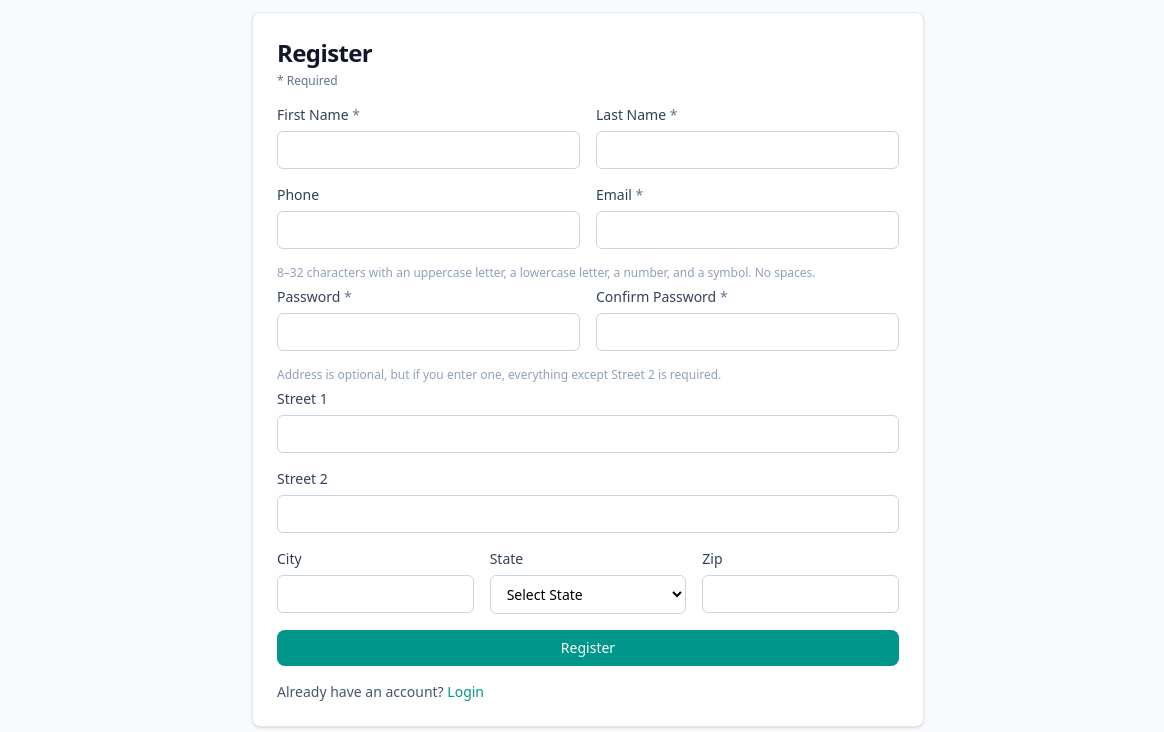
Register › forwards the pending destination through a failed login
Type "Ada" into the field labelled "First Name *" at (428,150), box [277,131,580,169]
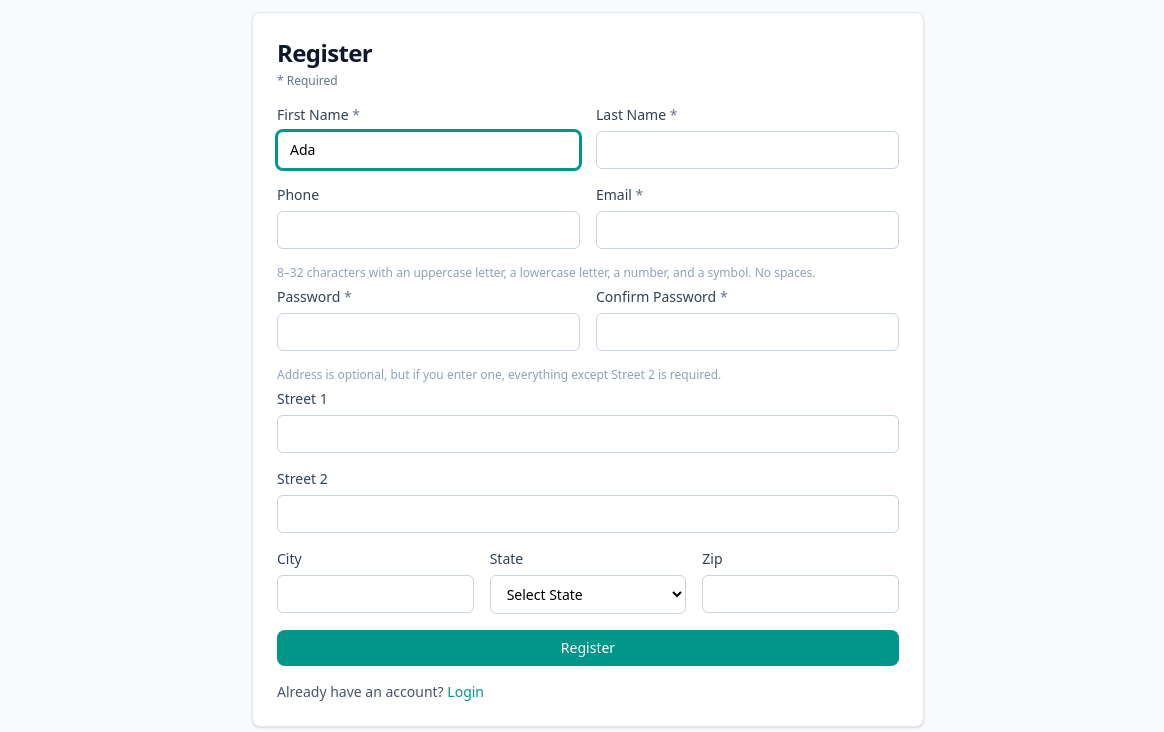
Type "Lovelace" into the field labelled "Last Name *" at (748,150), box [596,131,899,169]
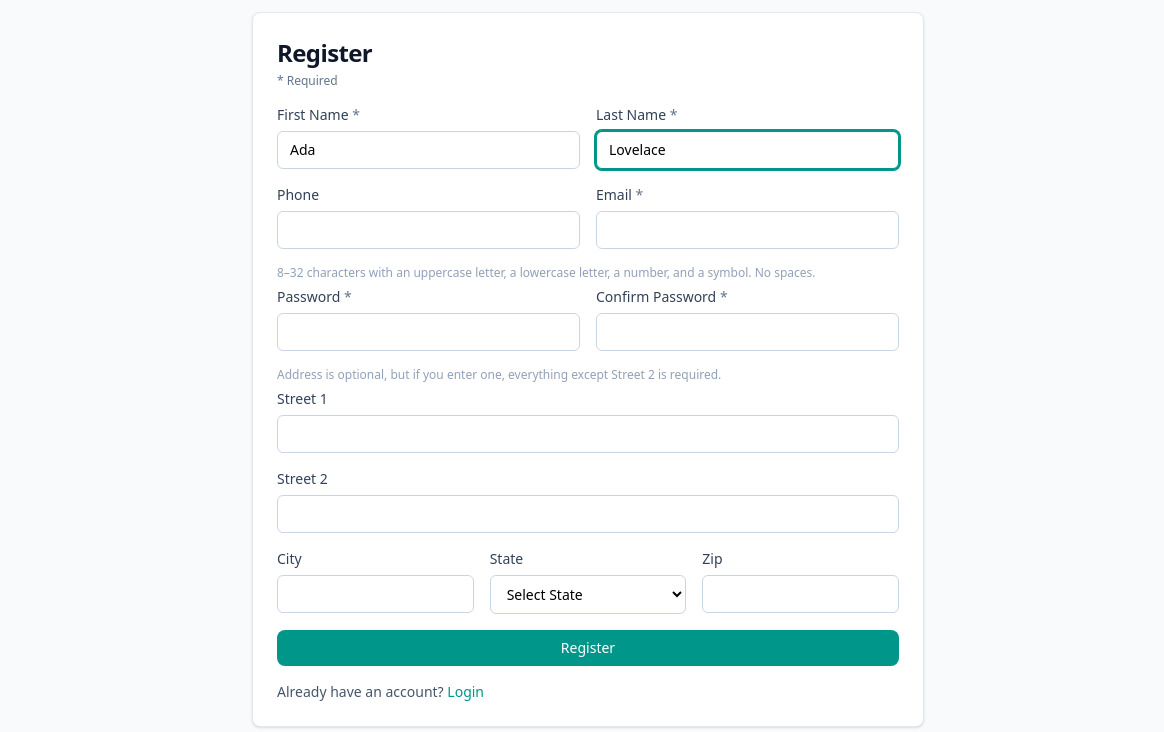
Type "ada@example.com" into the field labelled "Email *" at (748,230), box [596,211,899,249]
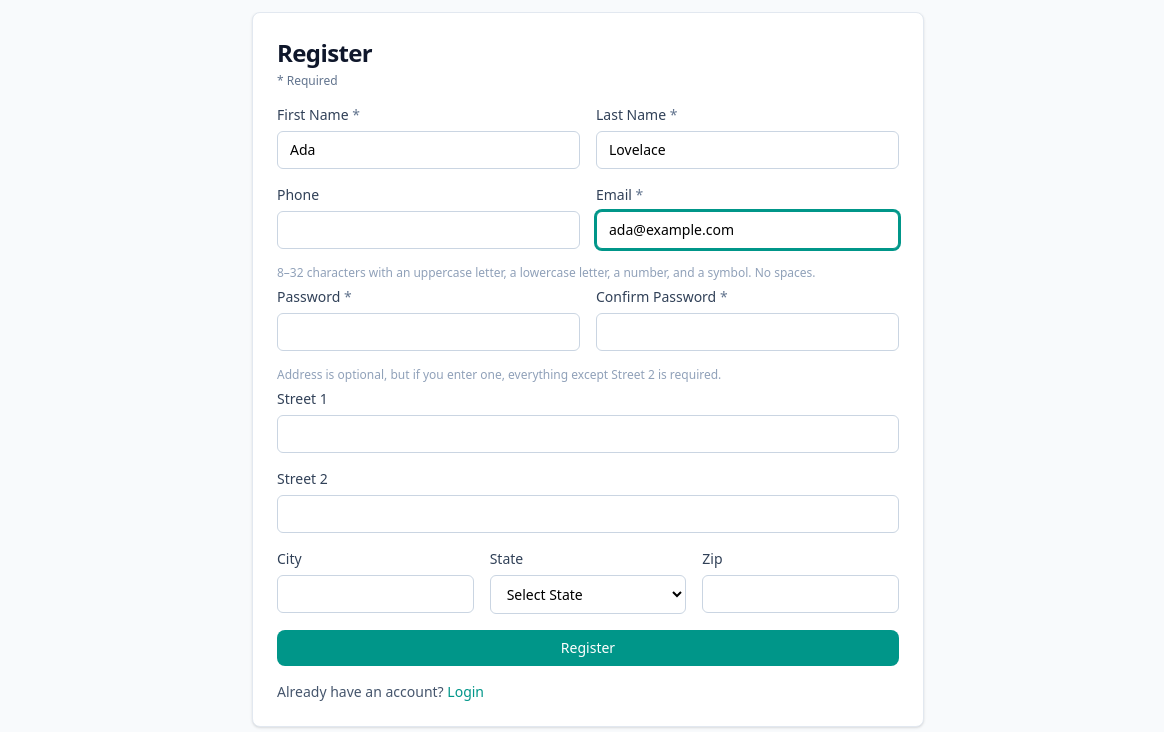
Type "Password1!" into the password field labelled "Password *" at (428,332), box [277,313,580,351]
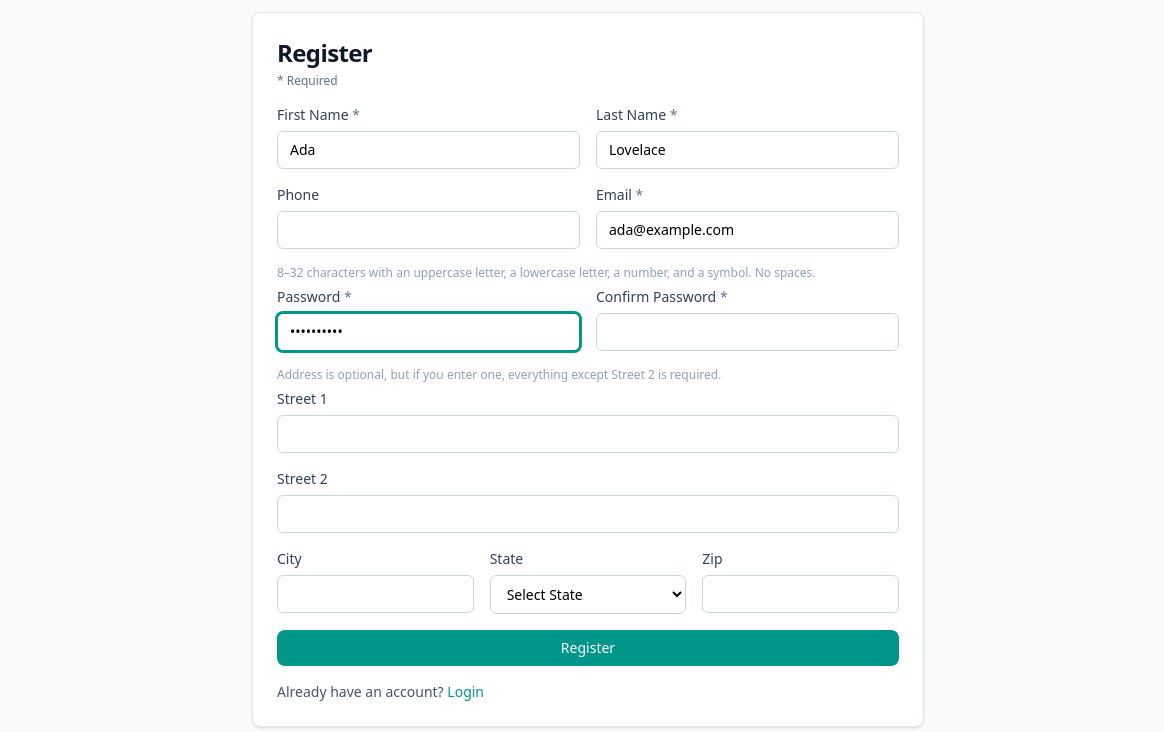
Type "Password1!" into the password field labelled "Confirm Password *" at (748,332), box [596,313,899,351]
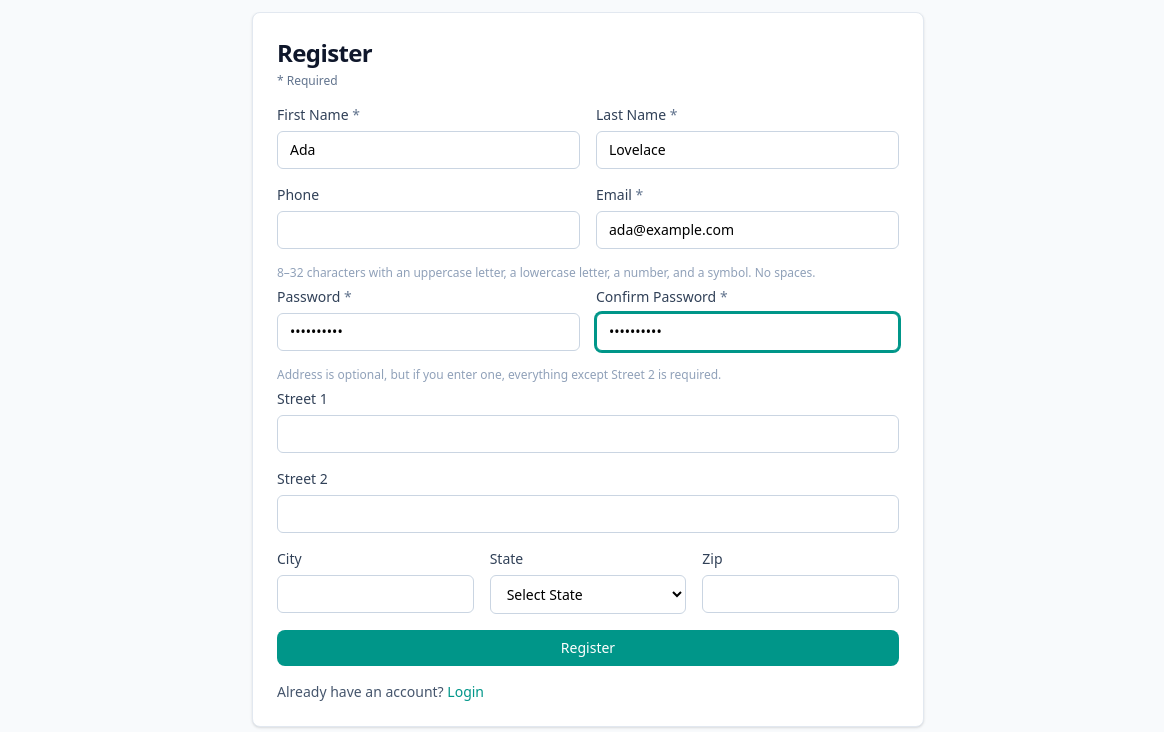
Click the button "Register" at (588,648), box [277,630,899,666]
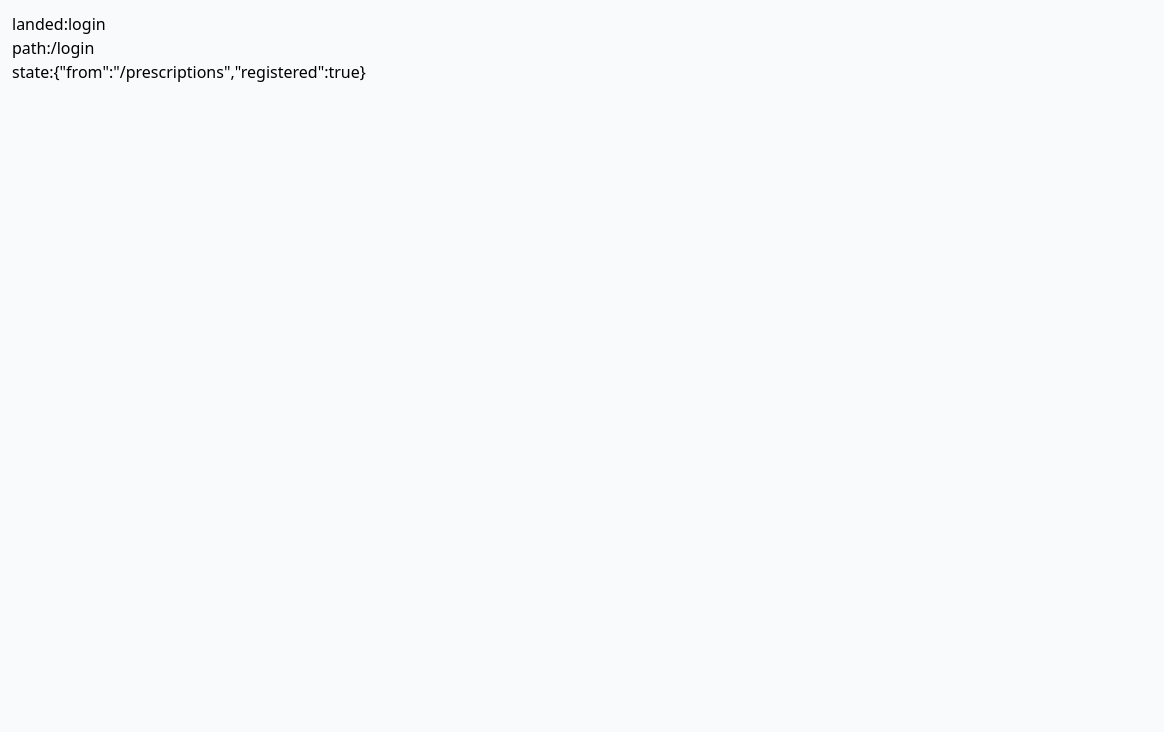
expect the text "landed:login" is shown: met, box [12,13,106,35]
expect the text "state:{\"from\":\"/prescriptions\",\"registered\":true}" shows "\"from\":\"/prescriptions\"": met, box [12,61,366,83]
